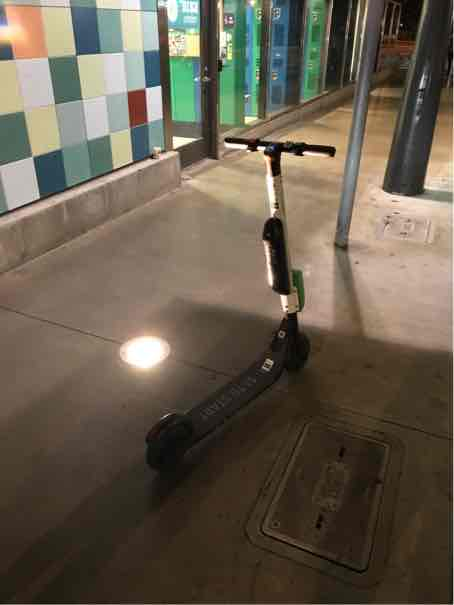scooter: (143, 127, 340, 477)
